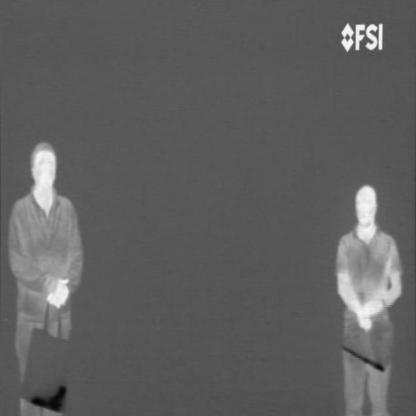weapon: (28, 381, 67, 415)
